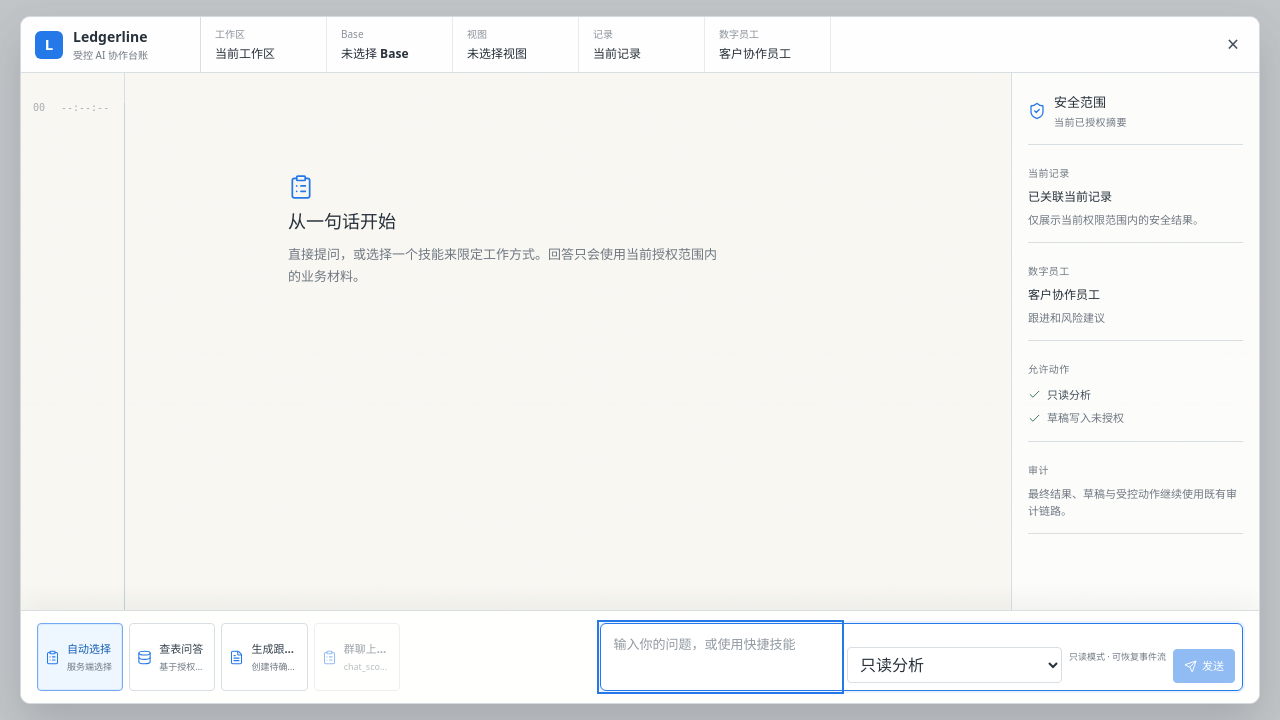
Scenario: renders durable Action proposal and confirms only after an explicit click
Select "创建任务（需确认）" in the dropdown named "动作模式" at point(954, 665), box x1=847 y1=647 x2=1062 y2=683
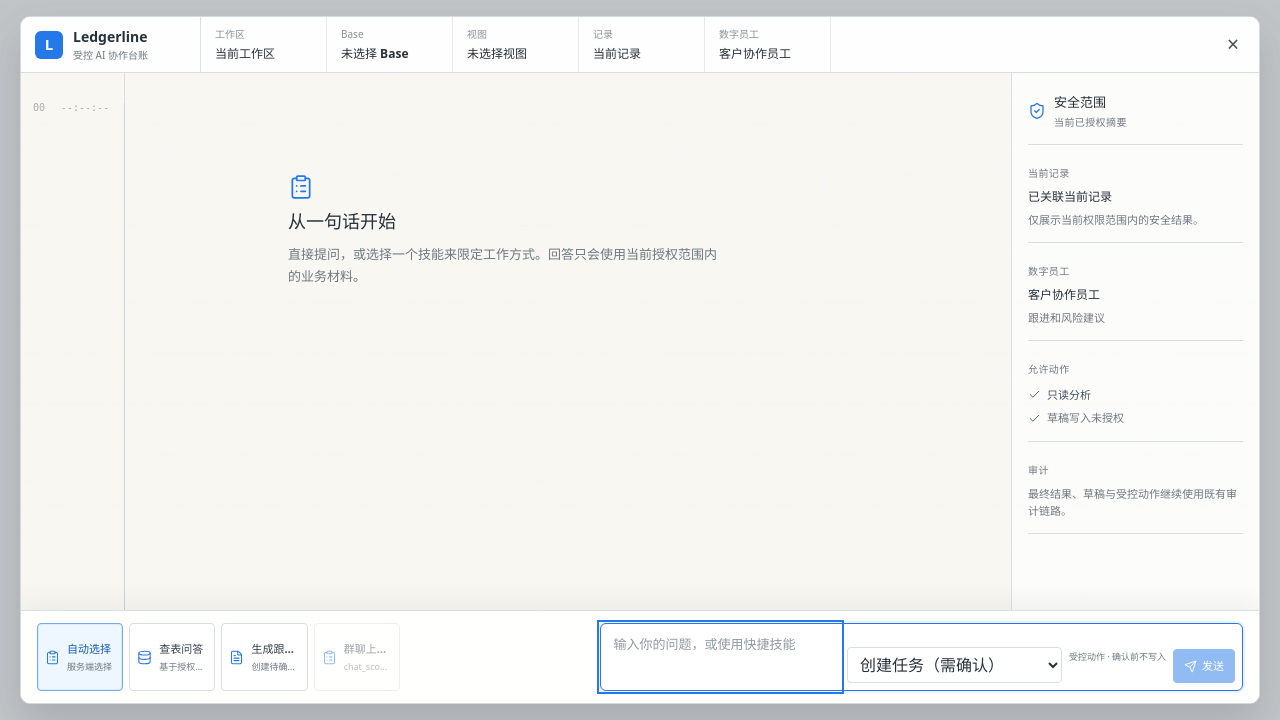
Type "创建回滚评审任务" into the text box named "协作问题" at point(721, 657), box x1=601 y1=624 x2=840 y2=690
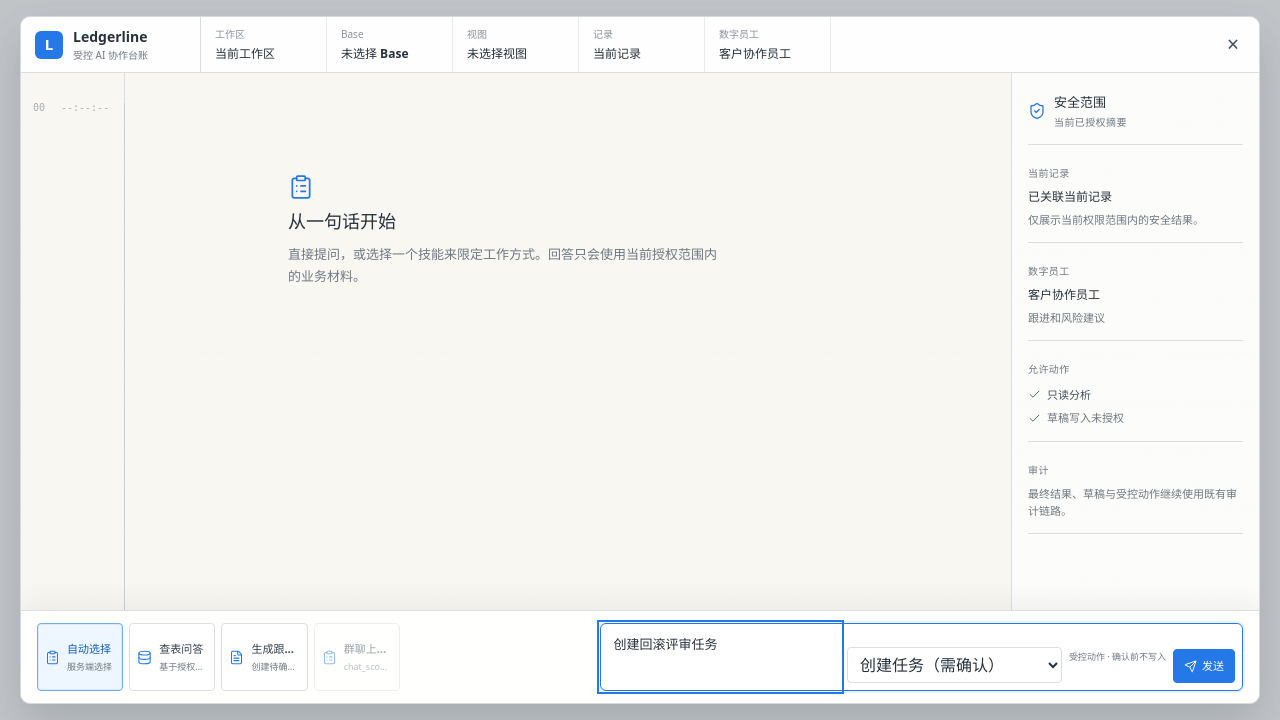
Click the button with aria-label "发送问题" at point(1204, 666), box x1=1173 y1=649 x2=1235 y2=683
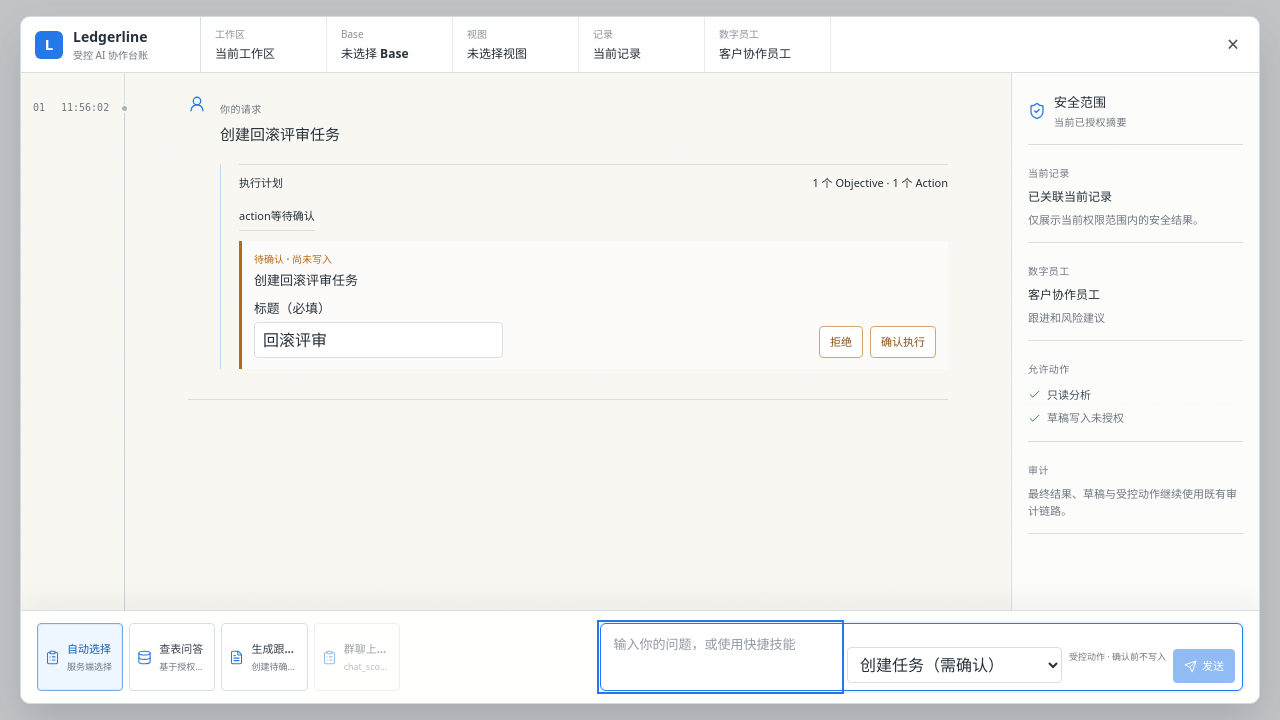
Expected: the element named "创建任务待确认" shows "尚未写入", x1=254 y1=252 x2=332 y2=266
Replace the text in the field showing "回滚评审" with "回滚方案评审" at point(378, 340), box x1=254 y1=322 x2=503 y2=358
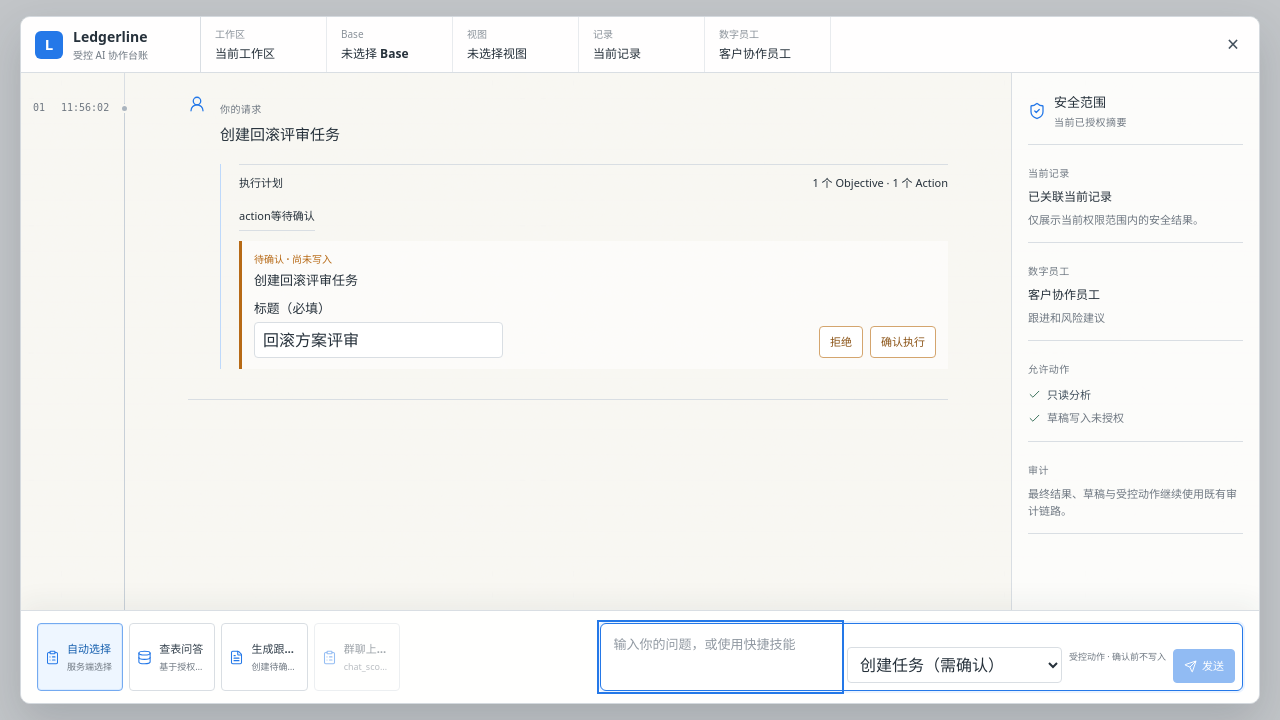
Click the button "确认执行" at point(903, 342), box x1=870 y1=326 x2=936 y2=358
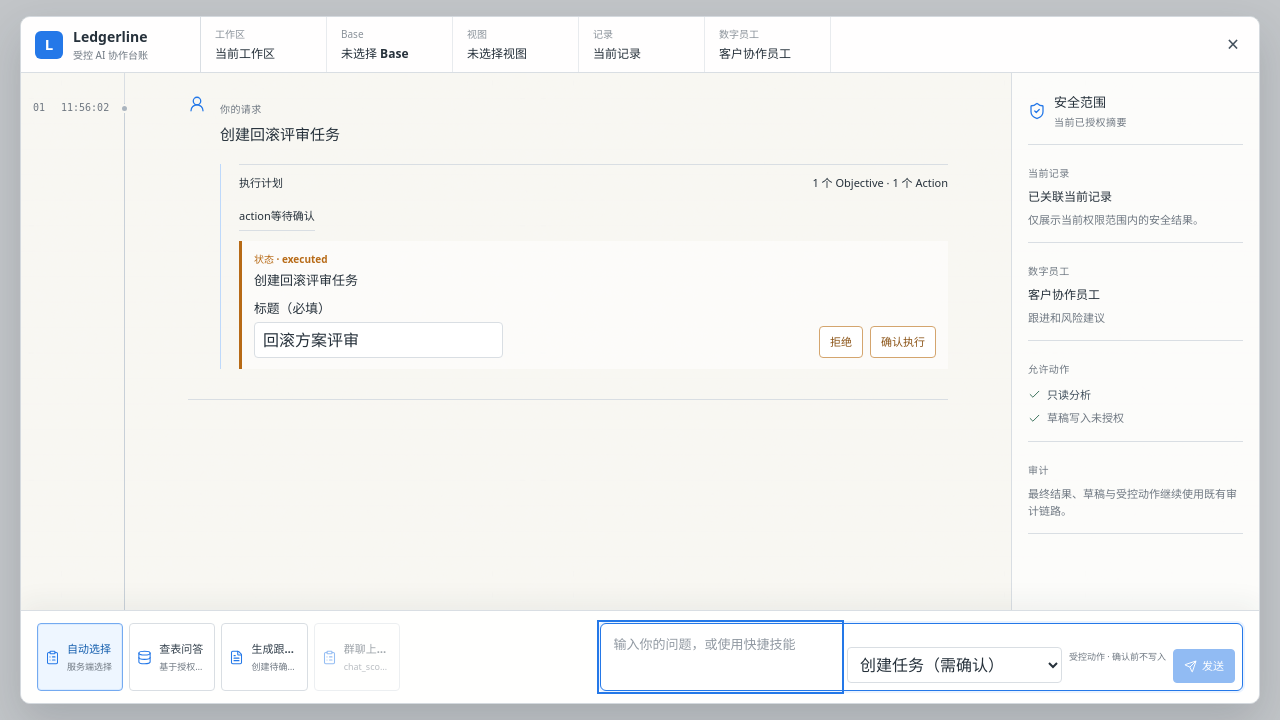
Expected: the text "状态 · executed" is shown, x1=254 y1=252 x2=328 y2=266
